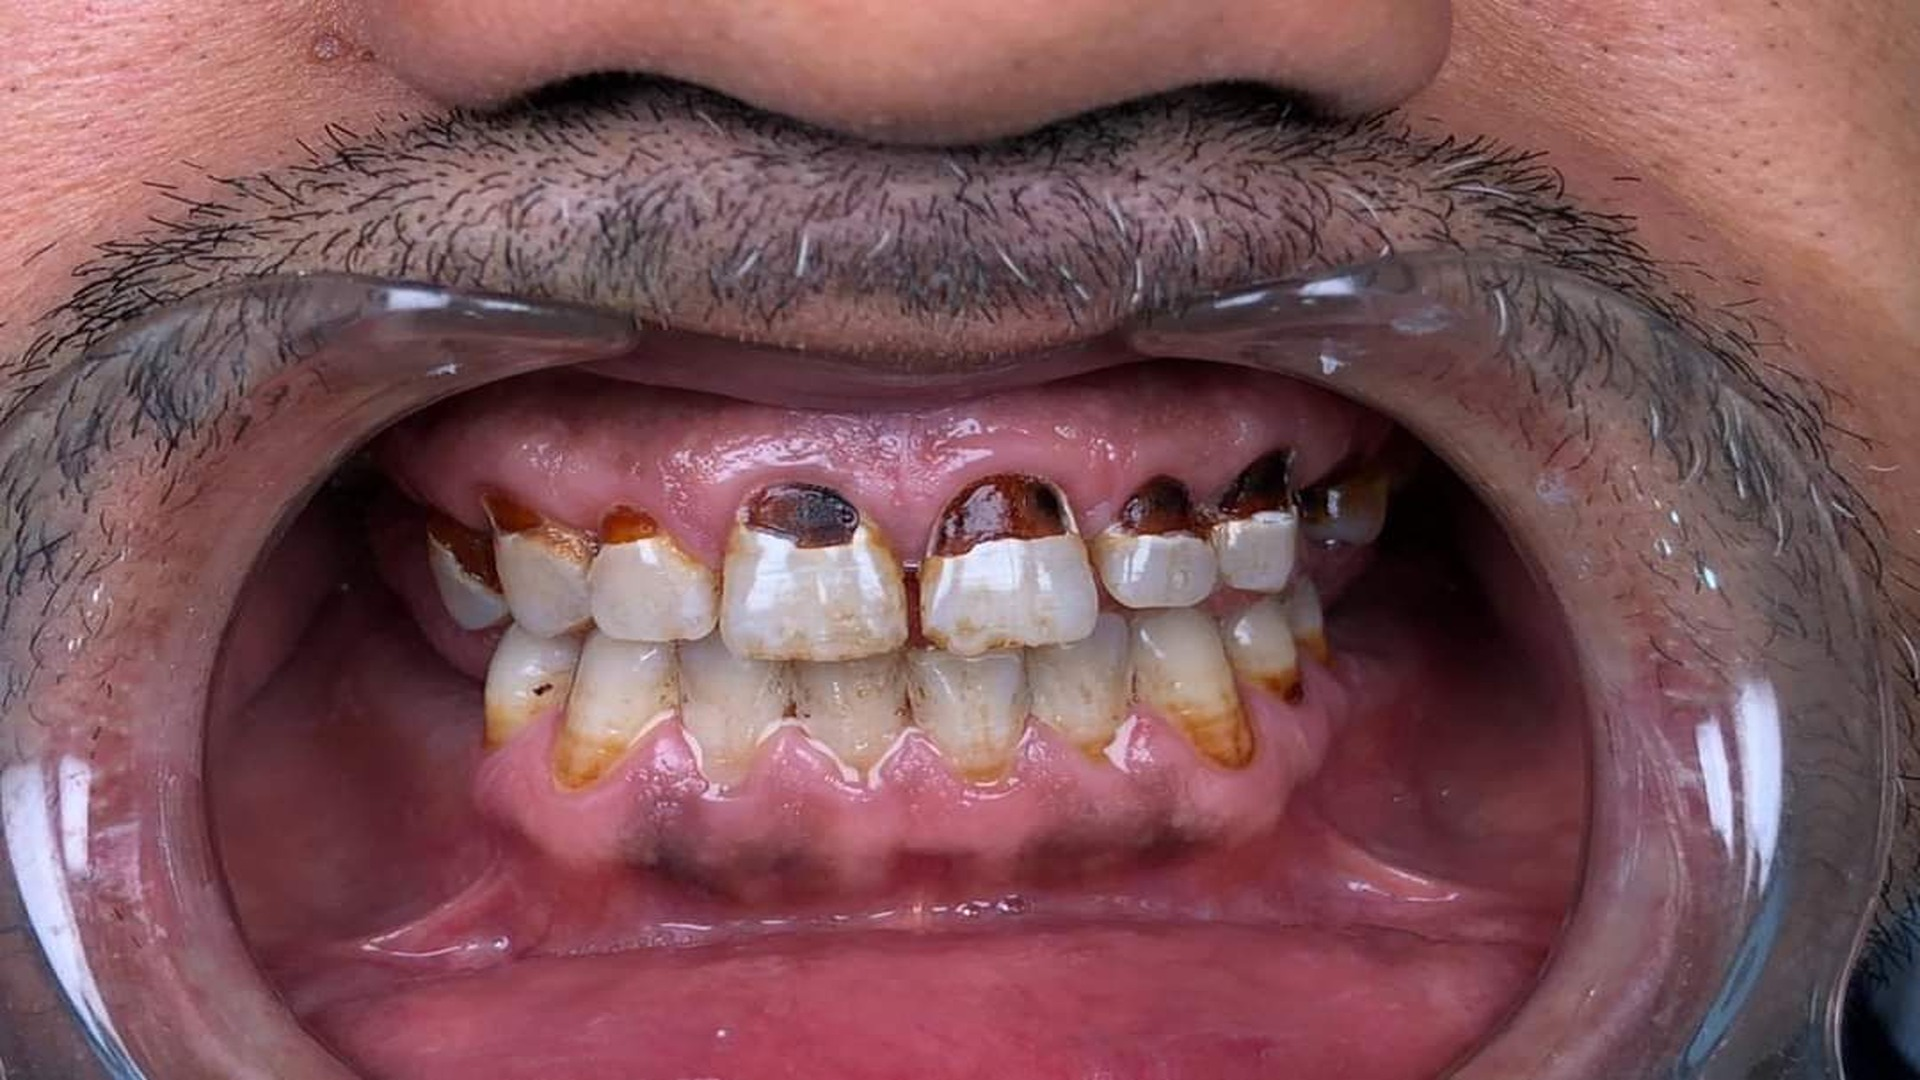tooth: (719, 477, 909, 661), (918, 473, 1098, 654), (553, 629, 683, 793), (1129, 609, 1254, 771), (483, 487, 599, 637), (676, 626, 786, 785), (906, 647, 1031, 785), (589, 516, 720, 642), (1026, 611, 1135, 758), (1096, 475, 1217, 607), (794, 654, 913, 786), (483, 622, 582, 752), (1211, 447, 1298, 593), (1221, 603, 1302, 703)
